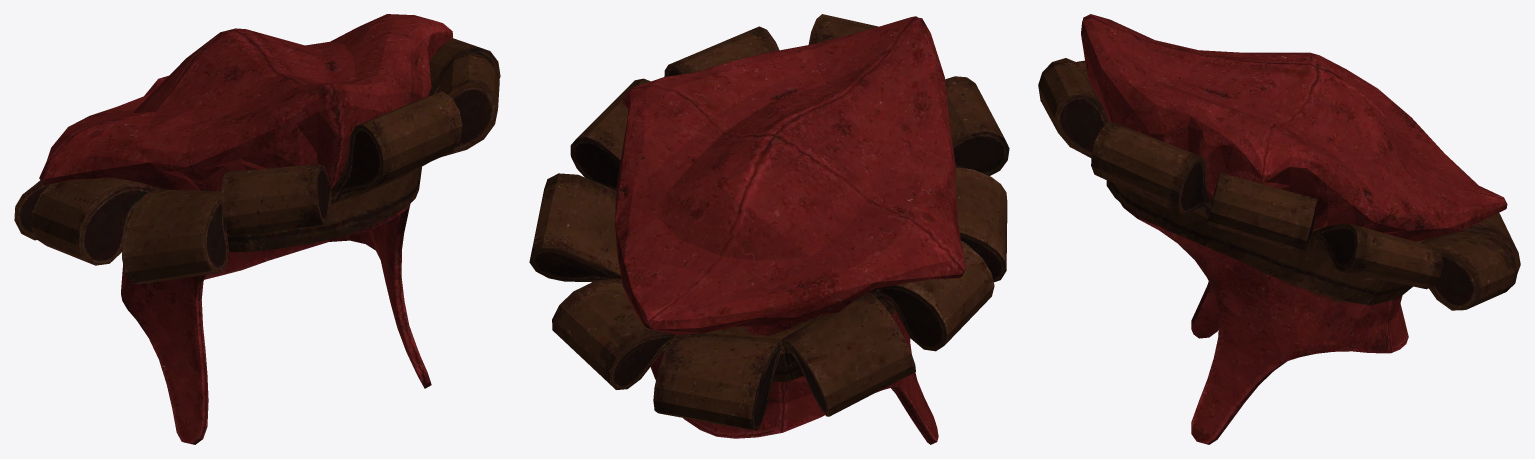
The model's file is ZDOBIONY_KAPELUSZ.glb.
3 renders of one model, left to right at view 1: azimuth 30°, elevation 25°; view 2: azimuth 150°, elevation 25°; view 3: azimuth 270°, elevation 25°, orthographic. The views are drawn at different scales.
Parts seen in each view (by area): view 1: ZDOBIONY_KAPELUSZ; view 2: ZDOBIONY_KAPELUSZ; view 3: ZDOBIONY_KAPELUSZ.
Boxes of the visible parts, bbox=[...] form: ZDOBIONY_KAPELUSZ: bbox=[14, 14, 500, 444]; ZDOBIONY_KAPELUSZ: bbox=[529, 14, 1009, 444]; ZDOBIONY_KAPELUSZ: bbox=[1038, 14, 1520, 444].
Bounding box in the file's own units: 0.3683 × 0.3239 × 0.3957.
1 material, 1 textured.
